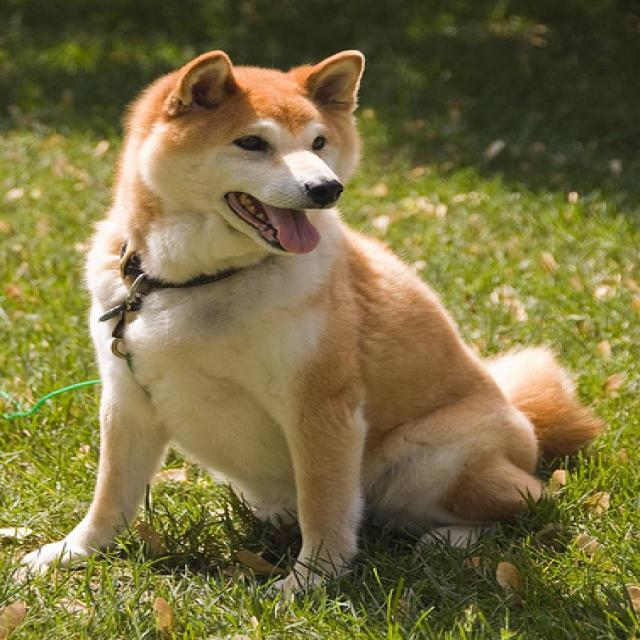dog-shiba_inu: (17, 45, 613, 590)
